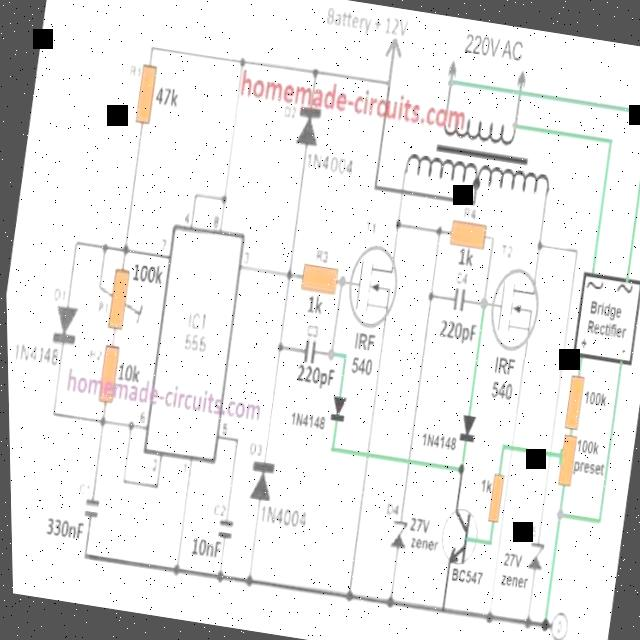capacitor: (443, 275, 475, 322), (73, 486, 103, 536), (210, 506, 236, 545), (294, 331, 319, 370), (465, 170, 484, 197), (476, 293, 490, 316)
diode: (42, 294, 86, 360), (284, 92, 328, 154), (239, 447, 280, 512), (381, 509, 414, 562), (448, 402, 481, 450), (320, 385, 351, 434), (520, 530, 550, 579)
inductor: (396, 136, 558, 228), (436, 106, 521, 152)
mosfet: (478, 258, 549, 364), (338, 237, 409, 341)
node: (477, 603, 496, 631), (548, 503, 568, 527), (449, 458, 468, 483), (429, 216, 447, 242), (164, 554, 182, 580), (390, 210, 406, 238), (379, 589, 397, 613), (238, 570, 257, 592), (534, 612, 551, 636), (306, 61, 323, 85), (336, 585, 356, 605), (117, 240, 132, 263), (213, 188, 230, 208), (94, 236, 111, 256), (423, 284, 438, 306), (322, 342, 336, 365), (211, 566, 224, 587), (93, 413, 107, 432), (122, 415, 134, 437), (532, 234, 545, 253), (519, 614, 530, 636), (335, 272, 348, 290), (237, 52, 249, 70), (273, 339, 285, 354), (284, 265, 293, 282)
resistor: (84, 334, 127, 414), (125, 58, 167, 136), (96, 265, 138, 340), (438, 208, 493, 261), (294, 255, 343, 304), (474, 462, 509, 530), (558, 364, 591, 436), (549, 431, 581, 494)
transistor: (427, 494, 485, 581)
